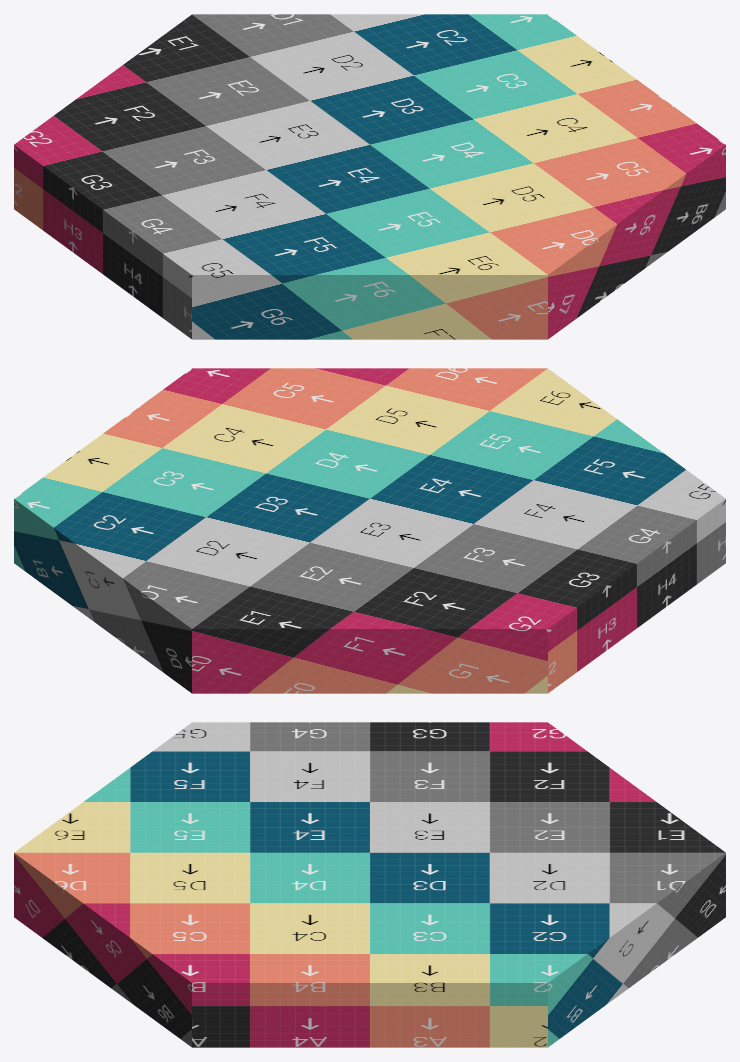
The model's file is Hexagon.fbx.
3 renders of one model, top to bottom at view 1: azimuth 30°, elevation 25°; view 2: azimuth 150°, elevation 25°; view 3: azimuth 270°, elevation 25°, orthographic.
Visible parts, largest first — view 1: Hexagon; view 2: Hexagon; view 3: Hexagon.
Part boxes in pixels (bbox=[...]): Hexagon: bbox=[14, 14, 725, 339]; Hexagon: bbox=[14, 368, 725, 693]; Hexagon: bbox=[14, 722, 725, 1047].
Bounding box in the file's own units: 3464 × 400 × 4000.
